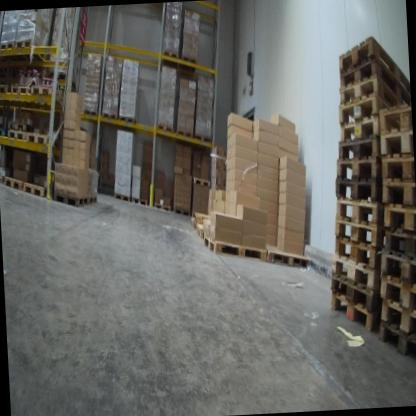pallet: (332, 33, 409, 103), (340, 55, 410, 104), (335, 72, 407, 116), (326, 292, 380, 342), (200, 231, 268, 266), (377, 266, 416, 323), (329, 228, 382, 269), (331, 267, 379, 312), (330, 250, 378, 292), (376, 319, 416, 369), (258, 237, 315, 271), (334, 212, 381, 253), (333, 193, 380, 232), (337, 92, 392, 124), (378, 297, 416, 341), (379, 222, 416, 265), (336, 151, 378, 187), (380, 171, 416, 212), (334, 134, 380, 166), (375, 94, 410, 136), (379, 249, 416, 288), (379, 147, 414, 186), (332, 173, 379, 202), (380, 200, 416, 234), (338, 116, 379, 142), (379, 129, 413, 160), (30, 82, 65, 109), (15, 37, 46, 65), (53, 188, 89, 209), (0, 40, 26, 64), (25, 130, 56, 149), (21, 179, 49, 198), (7, 118, 35, 135), (10, 82, 34, 101), (162, 48, 180, 73), (179, 54, 199, 74), (192, 174, 213, 191), (3, 174, 24, 190), (193, 209, 215, 223), (118, 113, 137, 129), (193, 131, 213, 146), (172, 127, 192, 142), (8, 127, 28, 142), (194, 222, 212, 238), (152, 122, 171, 136), (173, 206, 191, 219), (154, 201, 172, 213), (131, 195, 148, 207), (113, 191, 131, 202), (80, 107, 99, 117), (0, 83, 12, 97), (102, 109, 117, 120), (87, 193, 100, 204), (189, 217, 198, 231), (0, 125, 7, 138), (0, 42, 4, 62), (0, 171, 5, 184)
